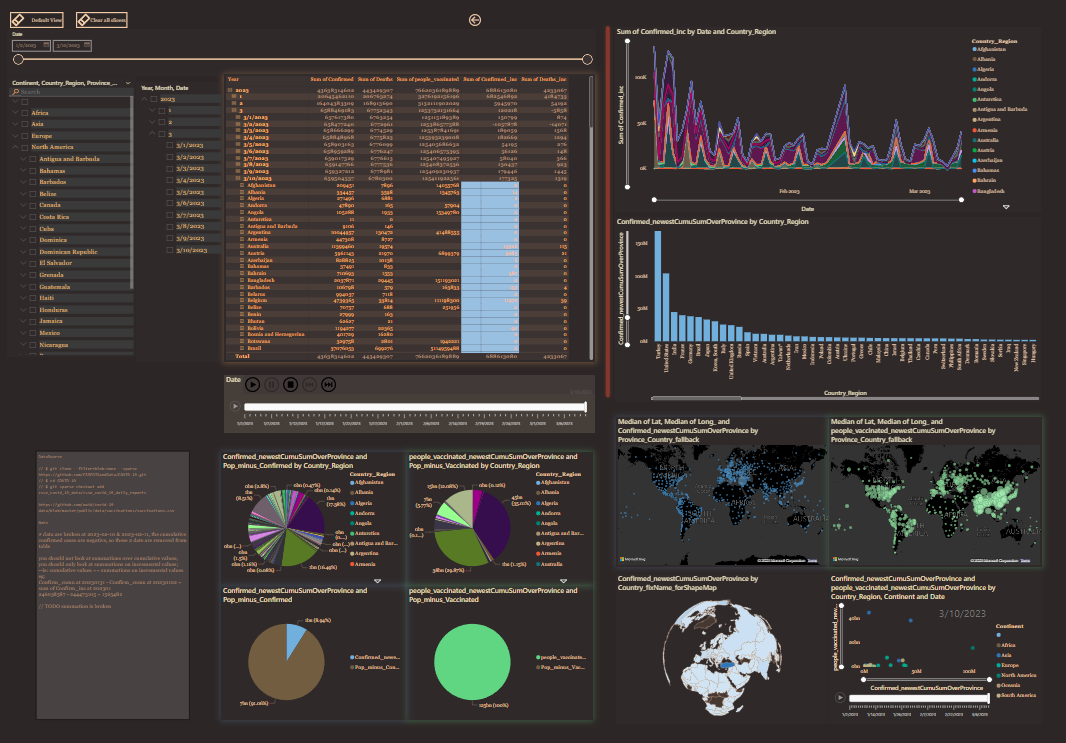

Layout of this report page (visuals, bound fields, positions):
{"tool":"powerbi","page":{"name":"Page 1","canvas":[3000,2000],"ordinal":0},"visuals":[{"type":"actionButton","box":[1214.7,53,47.5,40],"z":0,"group":"g6"},{"type":"stackedAreaChart","fields":{"Y":["Sum(df_CovidInfection.Confirmed_inc)"],"Series":["df_CovidInfection.Country_Region"],"Category":["df_CovidInfection.Date Hierarchy.Year","df_CovidInfection.Date Hierarchy.Month","df_CovidInfection.Date Hierarchy.Date"]},"box":[1585.7,89,1065.7,462.7],"z":0,"group":"g3"},{"type":"slicer","fields":{"Values":["df_CovidInfection.Date"]},"box":[64.6,96,1472,118.1],"z":0,"group":"g4"},{"type":"textbox","title":"Comment","box":[137,1151,384,672],"z":0},{"type":"group","id":"g1","title":"PieChart","box":[600,1152,936,672],"z":500},{"type":"actionButton","title":"ClearAllSlicers","box":[237.3,53,128.8,40],"z":1000,"group":"g6"},{"type":"slicer","fields":{"Values":["df_CovidInfection.Continent","df_CovidInfection.Country_Region","df_CovidInfection.Province_State"]},"box":[64,214.8,321.3,700.4],"z":1000,"group":"g4"},{"type":"columnChart","fields":{"Category":["df_CovidInfection.Country_Region"],"Y":["df_CovidInfection.Confirmed_newestCumuSumOverProvince"]},"box":[1585.7,563,1065.7,462.7],"z":1000,"group":"g3"},{"type":"scatterChart","fields":{"Play":["df_CovidInfection.Date"]},"box":[608,960,928,144],"z":1000,"group":"g5"},{"type":"group","id":"g2","title":"MainGeoMap","box":[1586.7,1064.2,1064.7,767.5],"z":1000},{"type":"scatterChart","fields":{"Category":["df_CovidInfection.Country_Region"],"X":["df_CovidInfection.Confirmed_newestCumuSumOverProvince"],"Y":["df_CovidInfection.people_vaccinated_newestCumuSumOverProvince"],"Play":["df_CovidInfection.Date"],"Series":["df_CovidInfection.Continent"]},"box":[2118.9,1456.7,532.5,375],"z":1000,"group":"g2"},{"type":"PBI_CV_16948668_E17D_454B_8664_2F2C470EA8C1","title":"PlayAxisButton","fields":{"category":["df_CovidInfection.Date"]},"box":[656,960,880,48],"z":1500,"group":"g5"},{"type":"actionButton","box":[73.5,53,133.8,40],"z":2000,"group":"g6"},{"type":"group","id":"g3","title":"MainChart","box":[1585.7,89,1065.7,936.7],"z":2000},{"type":"slicer","fields":{"Values":["df_CovidInfection.Date Hierarchy.Year","df_CovidInfection.Date Hierarchy.Month","df_CovidInfection.Date Hierarchy.Date"]},"box":[385.3,227.9,221.7,700.4],"z":2000,"group":"g4"},{"type":"map","fields":{"Y":["Median(df_CovidInfection.Lat)"],"X":["Median(df_CovidInfection.Long_)"],"Category":["df_CovidInfection.Continent","df_CovidInfection.Country_Region","df_CovidInfection.Province_Country_fallback"],"Size":["df_CovidInfection.Confirmed_newestCumuSumOverProvince"]},"box":[1586.7,1064.2,532.5,375],"z":2000,"group":"g2"},{"type":"pivotTable","title":"MainTable","fields":{"Rows":["df_CovidInfection.Date Hierarchy.Year","df_CovidInfection.Date Hierarchy.Month","df_CovidInfection.Date Hierarchy.Date","df_CovidInfection.Country_Region","df_CovidInfection.Province_State"],"Values":["Sum(df_CovidInfection.Confirmed)","Sum(df_CovidInfection.Deaths)","Sum(df_CovidInfection.people_vaccinated)","Sum(df_CovidInfection.Confirmed_inc)","Sum(df_CovidInfection.Deaths_inc)"]},"box":[608,208,928,720],"z":3000},{"type":"map","fields":{"Y":["Median(df_CovidInfection.Lat)"],"X":["Median(df_CovidInfection.Long_)"],"Category":["df_CovidInfection.Continent","df_CovidInfection.Country_Region","df_CovidInfection.Province_Country_fallback"],"Size":["df_CovidInfection.people_vaccinated_newestCumuSumOverProvince"]},"box":[2118.9,1064.2,532.5,375],"z":3000,"group":"g2"},{"type":"group","id":"g4","title":"MainControl","box":[64,96,1472,832],"z":4000},{"type":"shapeMap","fields":{"Category":["df_CovidInfection.Country_fixName_forShapeMap"],"Value":["df_CovidInfection.Confirmed_newestCumuSumOverProvince"]},"box":[1586.7,1456.7,531.2,375],"z":4000,"group":"g2"},{"type":"group","id":"g5","title":"TimePlayControl","box":[608,960,928,144],"z":5000},{"type":"group","id":"g6","title":"ViewButton","box":[73.5,53,1188.8,40],"z":6000},{"type":"shape","box":[1536,80,64,944],"z":6001},{"type":"pieChart","fields":{"Y":["df_CovidInfection.people_vaccinated_newestCumuSumOverProvince","df_CovidInfection.Pop_minus_Vaccinated"],"Category":["df_CovidInfection.Country_Region"]},"box":[1064,1152,464,336],"z":7000,"group":"g1"},{"type":"pieChart","fields":{"Y":["df_CovidInfection.Confirmed_newestCumuSumOverProvince","df_CovidInfection.Pop_minus_Confirmed"],"Category":["df_CovidInfection.Country_Region"]},"box":[600,1152,464,336],"z":8000,"group":"g1"},{"type":"pieChart","fields":{"Y":["df_CovidInfection.people_vaccinated_newestCumuSumOverProvince","df_CovidInfection.Pop_minus_Vaccinated"]},"box":[1064,1488,464,336],"z":9000,"group":"g1"},{"type":"pieChart","fields":{"Y":["df_CovidInfection.Confirmed_newestCumuSumOverProvince","df_CovidInfection.Pop_minus_Confirmed"]},"box":[600,1488,464,336],"z":10000,"group":"g1"}]}

Visuals, with their boxes on the page's 3000x2000 design canvas (x1, y1, x2, y2). These are canvas units, not pixel positions in the 1066x743 screenshot, which may show the page scaled, cropped or inside an application window:
actionButton: (x1=1215, y1=53, x2=1262, y2=93)
stackedAreaChart - Sum(df_CovidInfection.Confirmed_inc) x df_CovidInfection.Country_Region: (x1=1586, y1=89, x2=2651, y2=552)
slicer - df_CovidInfection.Date: (x1=65, y1=96, x2=1537, y2=214)
"Comment" textbox: (x1=137, y1=1151, x2=521, y2=1823)
"PieChart" group: (x1=600, y1=1152, x2=1536, y2=1824)
"ClearAllSlicers" actionButton: (x1=237, y1=53, x2=366, y2=93)
slicer - df_CovidInfection.Continent x df_CovidInfection.Country_Region: (x1=64, y1=215, x2=385, y2=915)
columnChart - df_CovidInfection.Country_Region x df_CovidInfection.Confirmed_newestCumuSumOverProvince: (x1=1586, y1=563, x2=2651, y2=1026)
scatterChart - df_CovidInfection.Date: (x1=608, y1=960, x2=1536, y2=1104)
"MainGeoMap" group: (x1=1587, y1=1064, x2=2651, y2=1832)
scatterChart - df_CovidInfection.Country_Region x df_CovidInfection.Confirmed_newestCumuSumOverProvince: (x1=2119, y1=1457, x2=2651, y2=1832)
"PlayAxisButton" PBI_CV_16948668_E17D_454B_8664_2F2C470EA8C1: (x1=656, y1=960, x2=1536, y2=1008)
actionButton: (x1=74, y1=53, x2=207, y2=93)
"MainChart" group: (x1=1586, y1=89, x2=2651, y2=1026)
slicer - df_CovidInfection.Date Hierarchy.Year x df_CovidInfection.Date Hierarchy.Month: (x1=385, y1=228, x2=607, y2=928)
map - Median(df_CovidInfection.Lat) x Median(df_CovidInfection.Long_): (x1=1587, y1=1064, x2=2119, y2=1439)
"MainTable" pivotTable: (x1=608, y1=208, x2=1536, y2=928)
map - Median(df_CovidInfection.Lat) x Median(df_CovidInfection.Long_): (x1=2119, y1=1064, x2=2651, y2=1439)
"MainControl" group: (x1=64, y1=96, x2=1536, y2=928)
shapeMap - df_CovidInfection.Country_fixName_forShapeMap x df_CovidInfection.Confirmed_newestCumuSumOverProvince: (x1=1587, y1=1457, x2=2118, y2=1832)
"TimePlayControl" group: (x1=608, y1=960, x2=1536, y2=1104)
"ViewButton" group: (x1=74, y1=53, x2=1262, y2=93)
shape: (x1=1536, y1=80, x2=1600, y2=1024)
pieChart - df_CovidInfection.people_vaccinated_newestCumuSumOverProvince x df_CovidInfection.Pop_minus_Vaccinated: (x1=1064, y1=1152, x2=1528, y2=1488)
pieChart - df_CovidInfection.Confirmed_newestCumuSumOverProvince x df_CovidInfection.Pop_minus_Confirmed: (x1=600, y1=1152, x2=1064, y2=1488)
pieChart - df_CovidInfection.people_vaccinated_newestCumuSumOverProvince x df_CovidInfection.Pop_minus_Vaccinated: (x1=1064, y1=1488, x2=1528, y2=1824)
pieChart - df_CovidInfection.Confirmed_newestCumuSumOverProvince x df_CovidInfection.Pop_minus_Confirmed: (x1=600, y1=1488, x2=1064, y2=1824)
